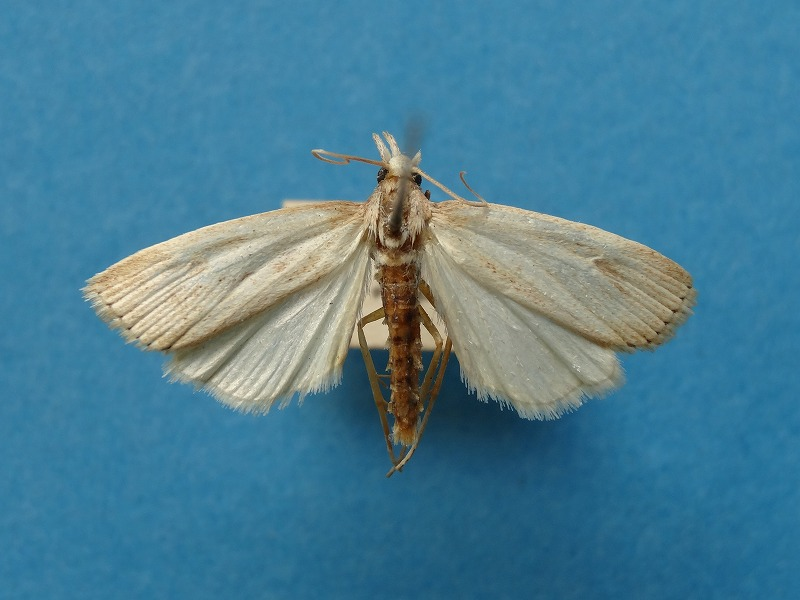Crambidae: (83, 140, 695, 463)
